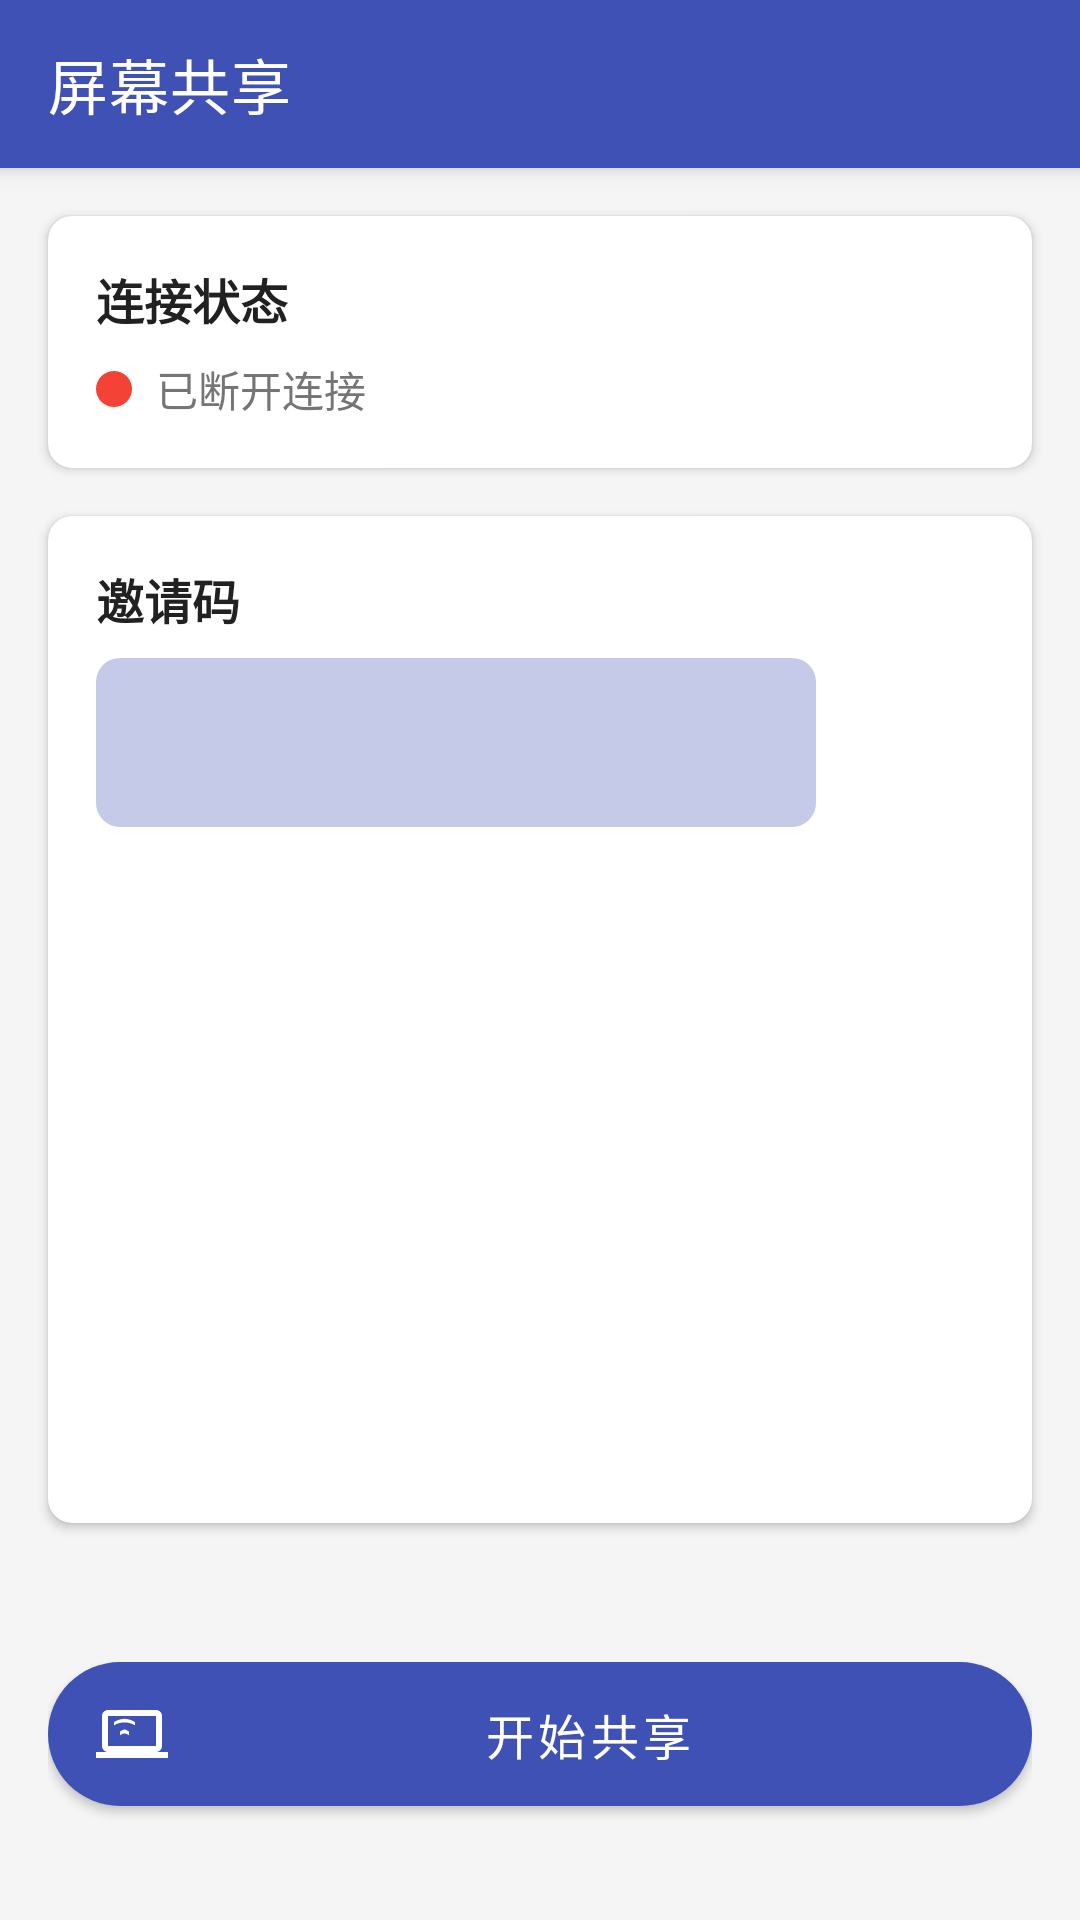

Icon bounding boxes for this 1080*1920 phone screenshot, format bbox(x1, y1, x2, y2):
status indicator disconnected: bbox(96, 371, 132, 407)
